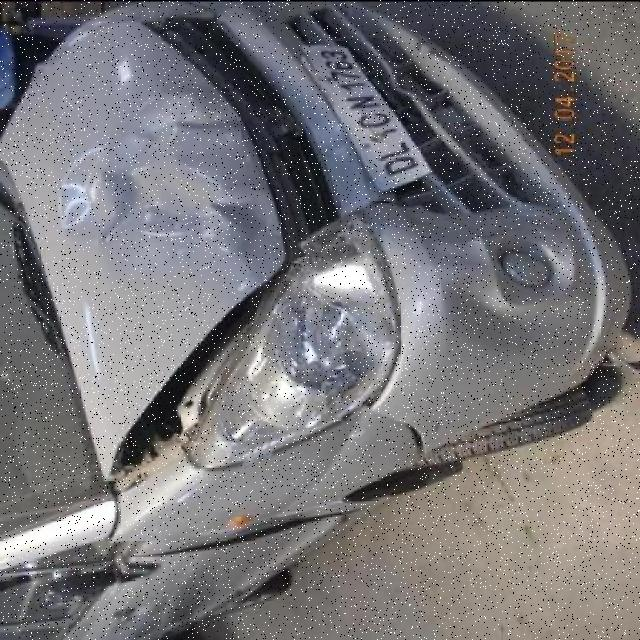damage: (55, 75, 278, 275), (277, 211, 390, 413), (342, 187, 589, 247), (138, 506, 368, 561), (352, 394, 438, 454), (427, 416, 457, 437)
